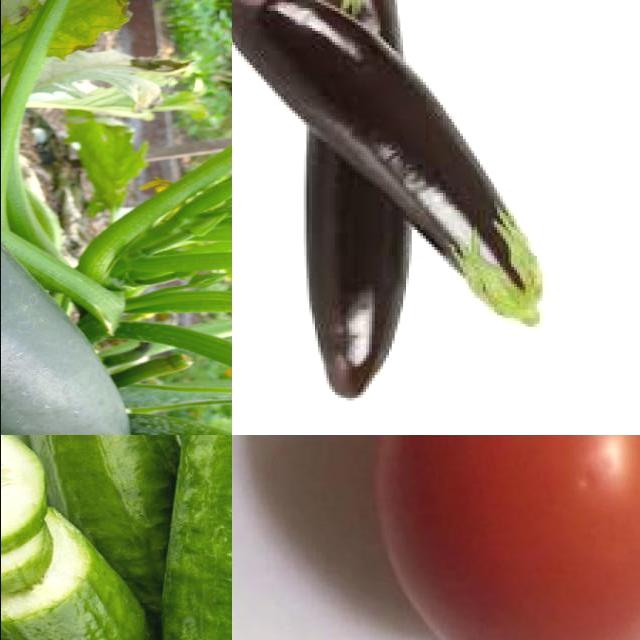cucumber: (22, 436, 183, 622), (1, 510, 160, 640), (161, 436, 232, 640)
eggplant: (232, 1, 540, 307), (307, 1, 418, 395)
tomato: (340, 436, 640, 640)
zucchini: (1, 75, 142, 436)
